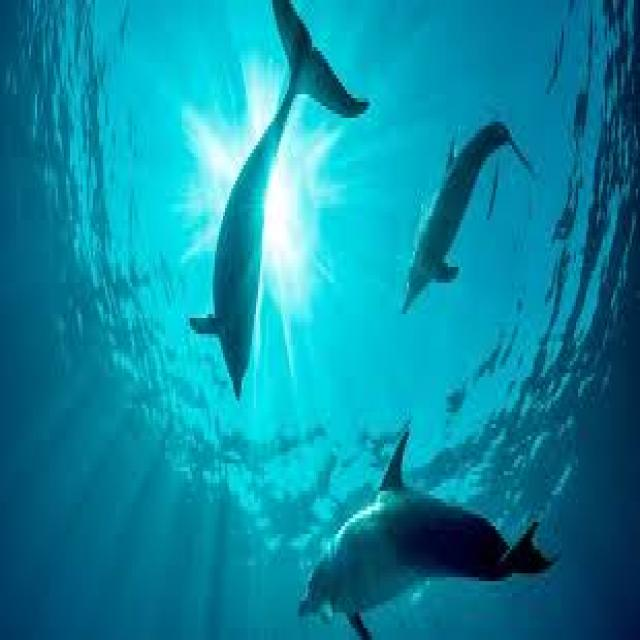dolphin: (171, 0, 372, 420), (229, 443, 615, 640), (390, 82, 564, 322)
